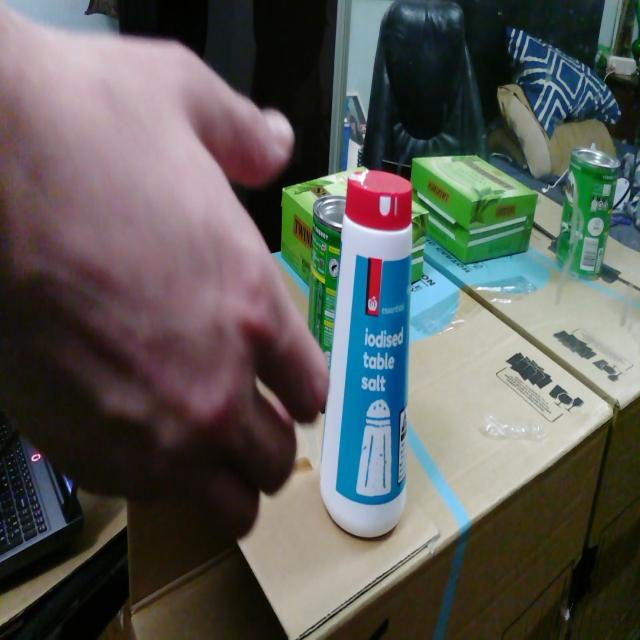nestle_milo_tin: (308, 195, 346, 369)
twinings_greentea_box: (281, 166, 367, 283), (412, 201, 427, 281)
woolworths_salt_bottle: (319, 169, 412, 537)
